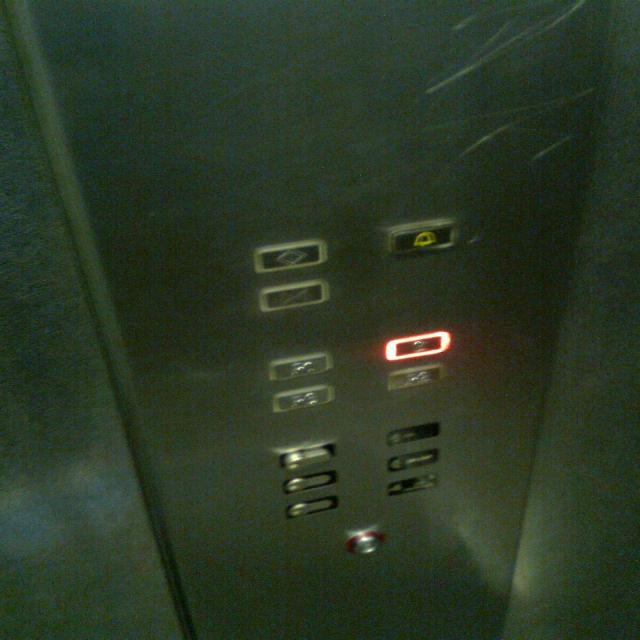2: (386, 331, 450, 359)
alarm: (388, 219, 455, 253)
blur: (266, 351, 333, 383), (272, 385, 334, 412), (387, 363, 442, 389)
close: (257, 280, 327, 311)
keyhole: (276, 442, 338, 469), (281, 469, 338, 495), (283, 494, 338, 520), (344, 530, 384, 556)
open: (251, 239, 328, 274)
